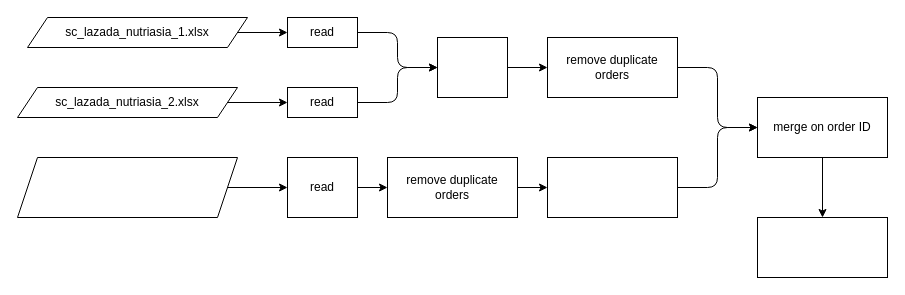
Some shapes in this 905 by 295 pixel diagram are drawn without their labels. The shapes that lost their labels are listed below. From the top down, each one's centre as x and y in pixels, then its label:
At pixel 472 67: "merge".
At pixel 127 187: "snowflake_lazada_nutriasia.csv".
At pixel 612 187: "get non-end status rows".
At pixel 822 247: "count all mismatched non-end status".
